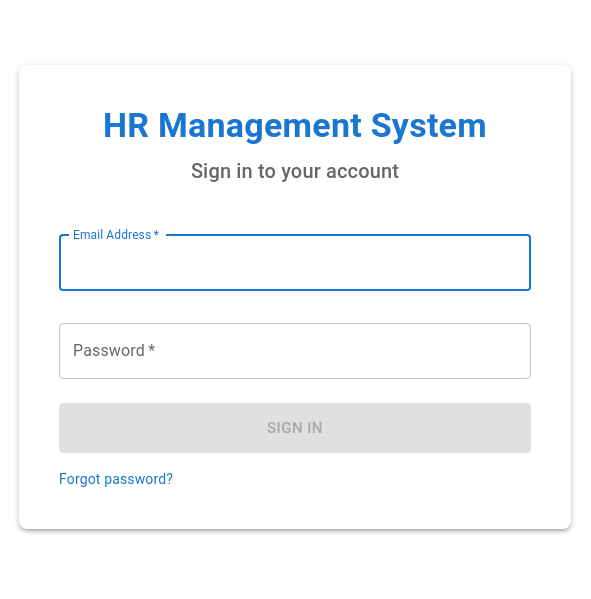
it: LoginPage › Error Handling › clears previous error on new submission
Type "test@example.com" into the field labelled "Email Address *". click: (295,263)
box: [59,235,531,291]
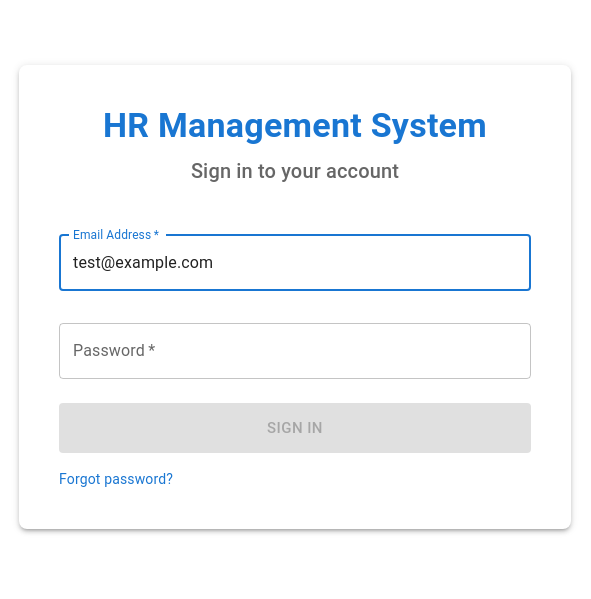
Type "wrongpassword" into the password field labelled "Password *". click: (295,351)
box: [59,323,531,379]
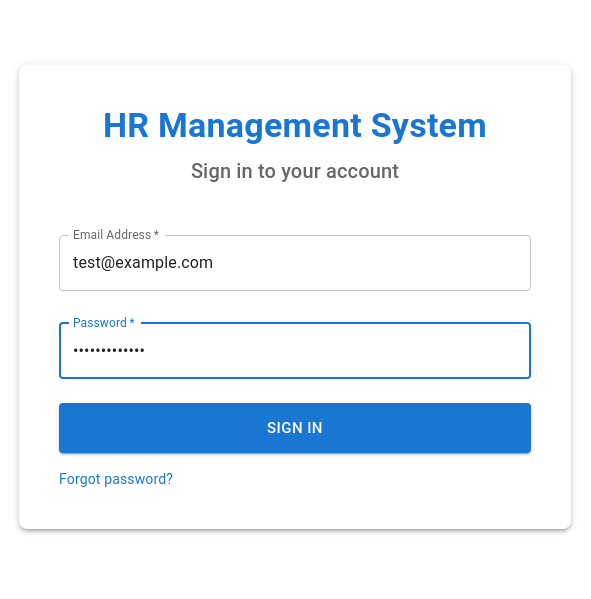
Click the button "Sign In". click: (295,428)
box: [59,403,531,453]
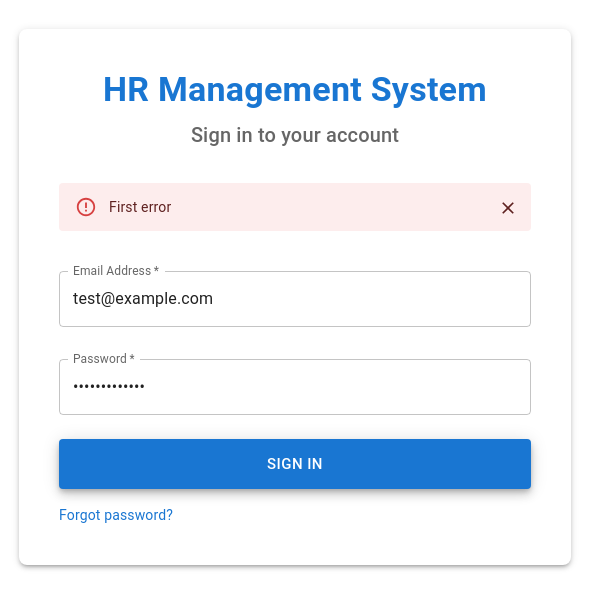
Now the text "First error" is shown, box [109,199,171,215]
Clear the password field labelled "Password *". click: (295,387)
box: [59,359,531,415]
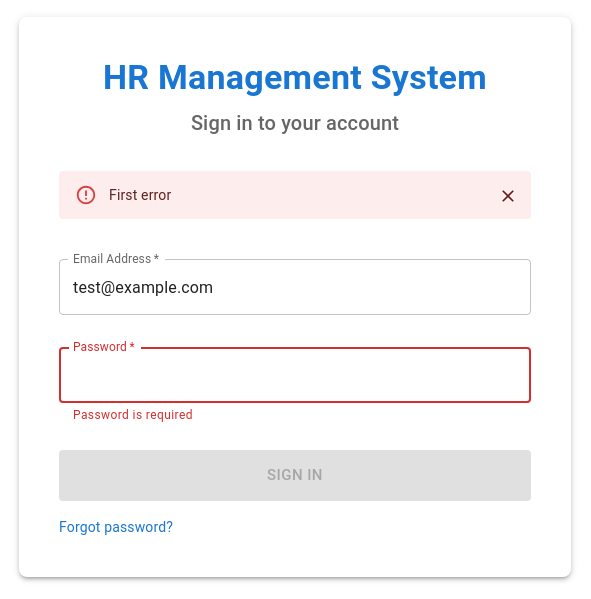
Type "correctpassword" into the password field labelled "Password *". click: (295,375)
box: [59,347,531,403]
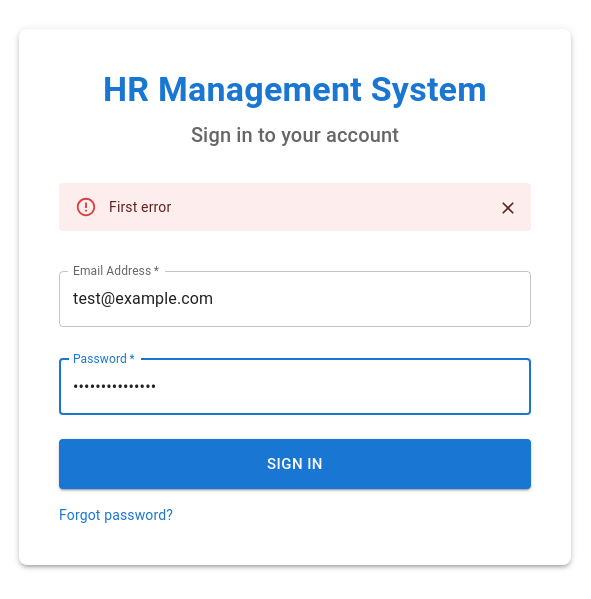
Click the button "Sign In". click: (295,464)
box: [59,439,531,489]
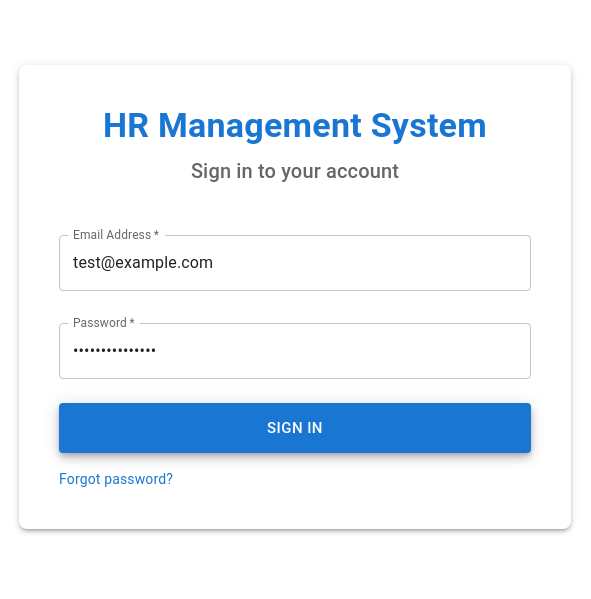
Now the text "First error" is gone
